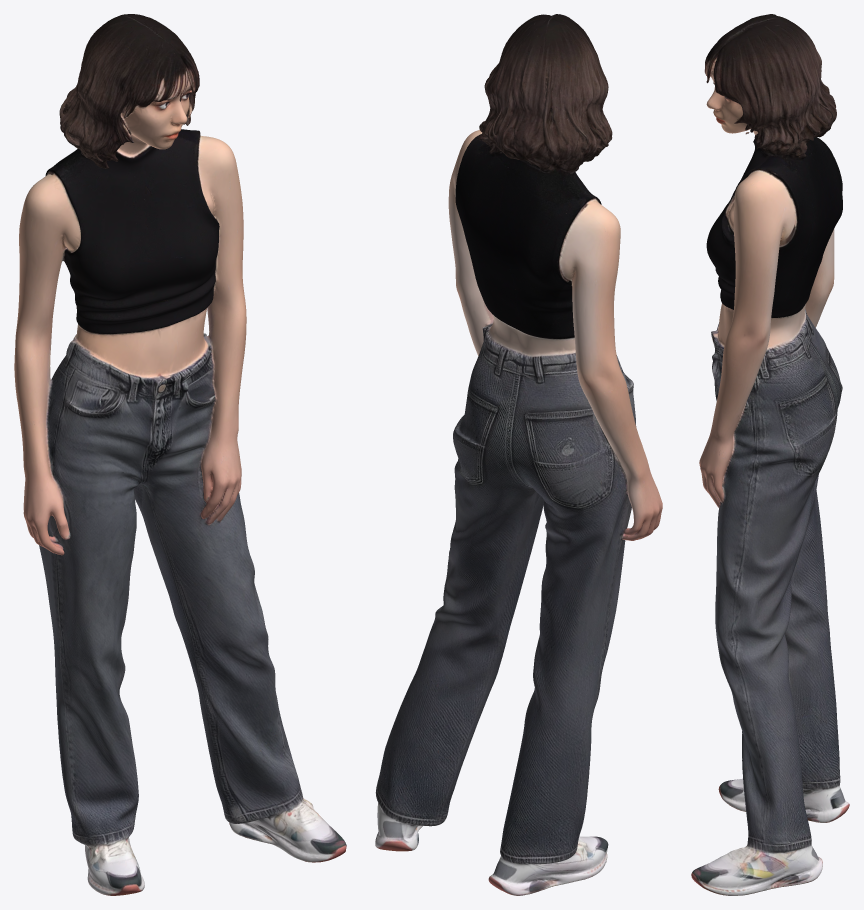
Rendered from midnight_casual.glb.
3 views of the same model, side by side, from view 1: azimuth 30°, elevation 25°; view 2: azimuth 150°, elevation 25°; view 3: azimuth 270°, elevation 25° (orthographic). The views are drawn at different scales.
Visible parts, largest first — view 1: Object_5, Object_6, Object_7; view 2: Object_6, Object_5, Object_7; view 3: Object_6, Object_5, Object_7.
Boxes of the visible parts, box(x1,y1,x2,y2) form: Object_5: box(24, 14, 346, 895); Object_6: box(14, 14, 298, 885); Object_7: box(23, 70, 289, 872); Object_6: box(375, 14, 654, 895); Object_5: box(413, 14, 662, 875); Object_7: box(415, 72, 657, 858); Object_6: box(740, 14, 849, 889); Object_5: box(691, 14, 829, 895); Object_7: box(716, 97, 787, 894).
Bounding box in the file's own units: 0.6776 × 1.9 × 0.3423.
Materials: 1 (1 with a texture image).
